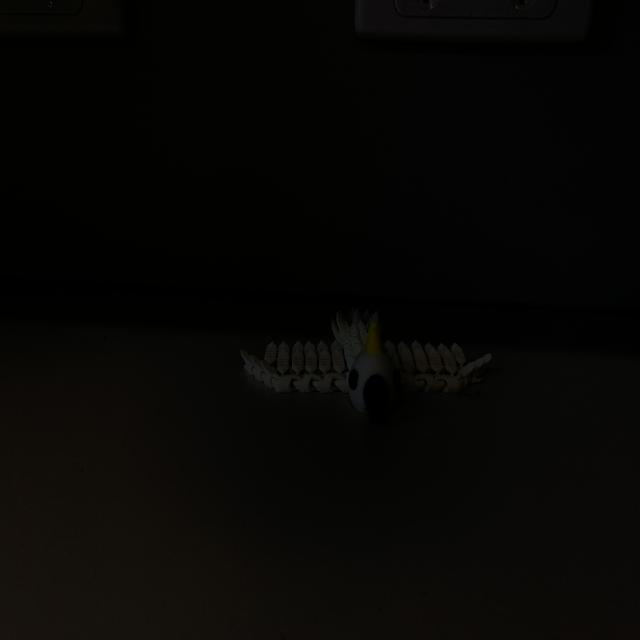cockatoo: (236, 296, 483, 416)
